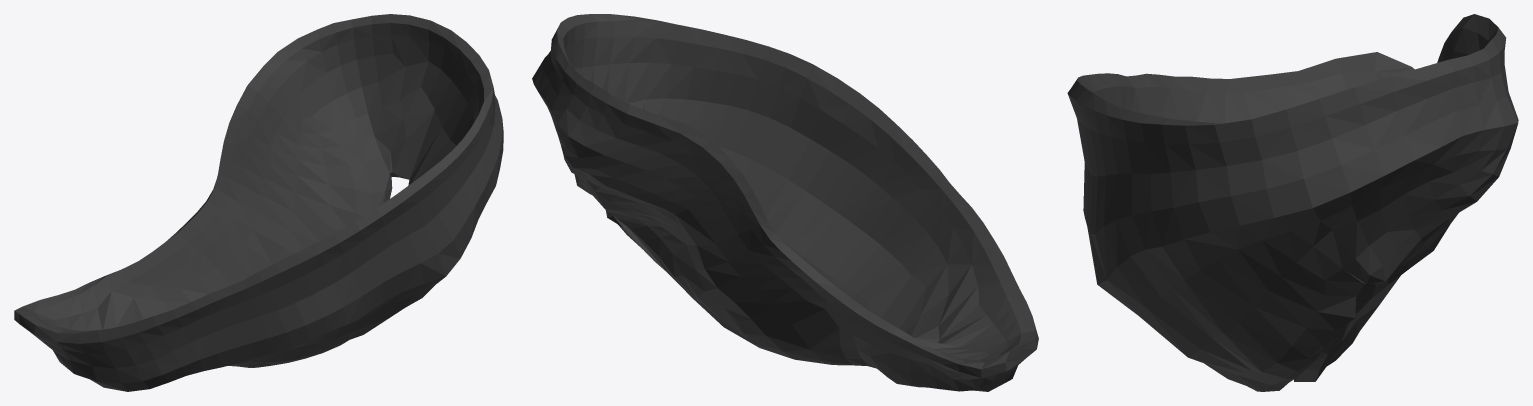
Rendered from R_sided_AV_VALVE.glb.
3 views of the same model, side by side, from view 1: azimuth 30°, elevation 25°; view 2: azimuth 150°, elevation 25°; view 3: azimuth 270°, elevation 25° (orthographic). The views are drawn at different scales.
Parts seen in each view (by area): view 1: R_sided_AV_VALVE; view 2: R_sided_AV_VALVE; view 3: R_sided_AV_VALVE.
Boxes of the visible parts, <box> form: R_sided_AV_VALVE: <box>14,14,503,391</box>; R_sided_AV_VALVE: <box>532,14,1038,391</box>; R_sided_AV_VALVE: <box>1067,14,1518,391</box>.
Bounding box in the file's own units: 5.44 × 3.13 × 2.95.
Materials: 1 (1 with a texture image).
